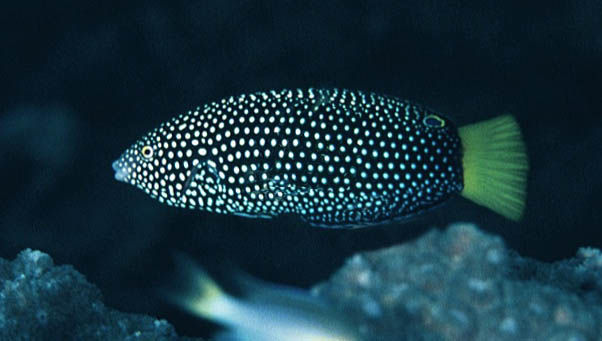fish: (112, 87, 528, 226)
